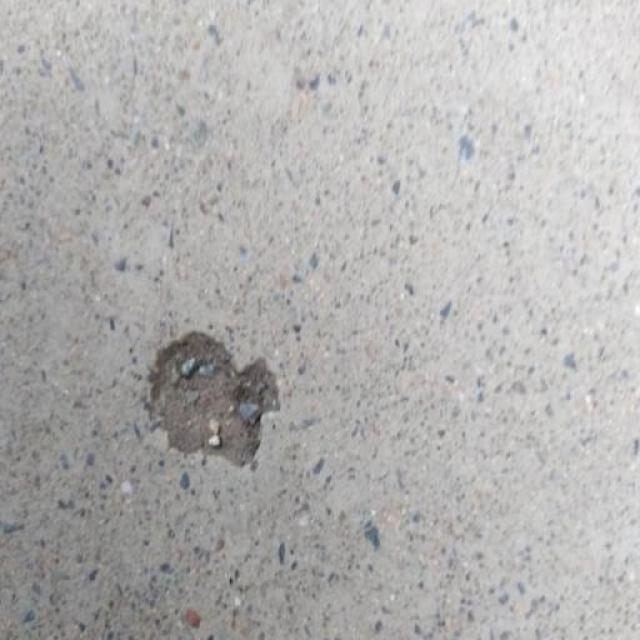D10: (149, 331, 279, 468)
